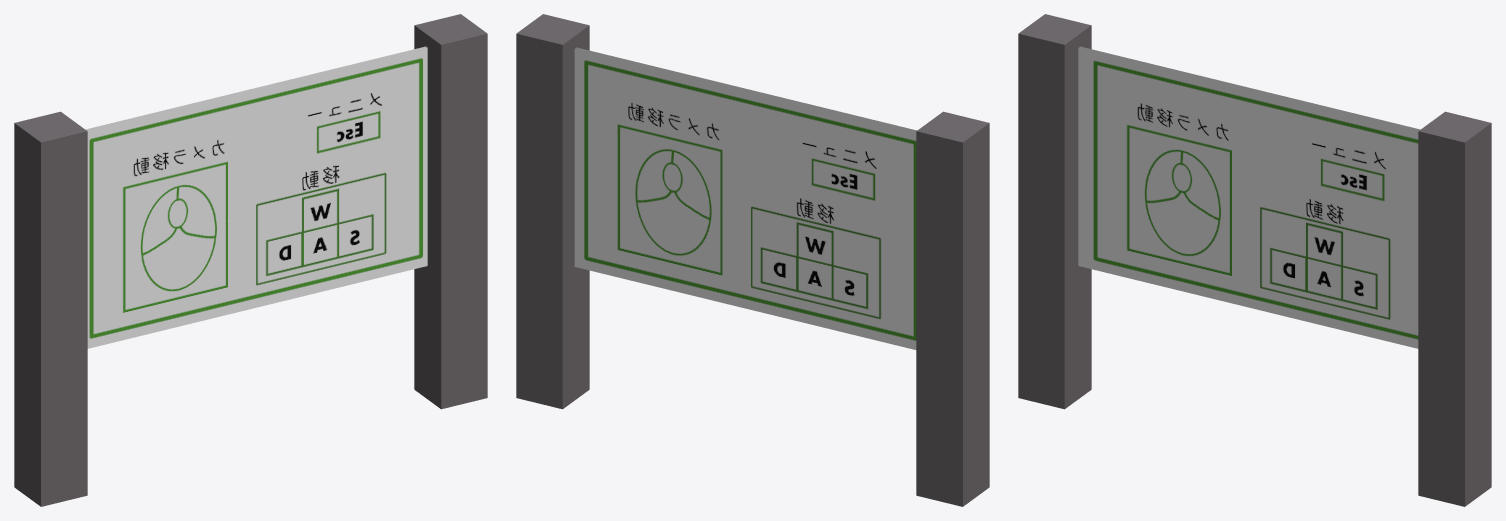
File: signboard_01.obj
3 renders of one model, left to right at view 1: azimuth 30°, elevation 25°; view 2: azimuth 150°, elevation 25°; view 3: azimuth 330°, elevation 25°, orthographic.
Visible parts, largest first — view 1: signboard_01:pPlane1group1, signboard_01:group1pCube1, signboard_01:group1pCube2, signboard_01:group1pPlane2; view 2: signboard_01:group1pPlane2, signboard_01:group1pCube1, signboard_01:group1pCube2, signboard_01:pPlane1group1; view 3: signboard_01:pPlane1group1, signboard_01:group1pCube2, signboard_01:group1pCube1, signboard_01:group1pPlane2.
Part boxes in pixels (box(x1,y1,x2,y2)): signboard_01:pPlane1group1: box(87, 47, 427, 348); signboard_01:group1pCube1: box(14, 111, 87, 506); signboard_01:group1pCube2: box(414, 14, 487, 409); signboard_01:group1pPlane2: box(85, 46, 426, 130); signboard_01:group1pPlane2: box(574, 48, 916, 349); signboard_01:group1pCube1: box(916, 111, 989, 506); signboard_01:group1pCube2: box(516, 14, 589, 409); signboard_01:pPlane1group1: box(576, 47, 916, 131); signboard_01:pPlane1group1: box(1078, 47, 1418, 348); signboard_01:group1pCube2: box(1418, 111, 1491, 506); signboard_01:group1pCube1: box(1018, 14, 1091, 409); signboard_01:group1pPlane2: box(1079, 46, 1420, 130).
Size of the model in its own units: 1.92 by 1.5 by 0.2.
Materials: 2 (2 with a texture image).
